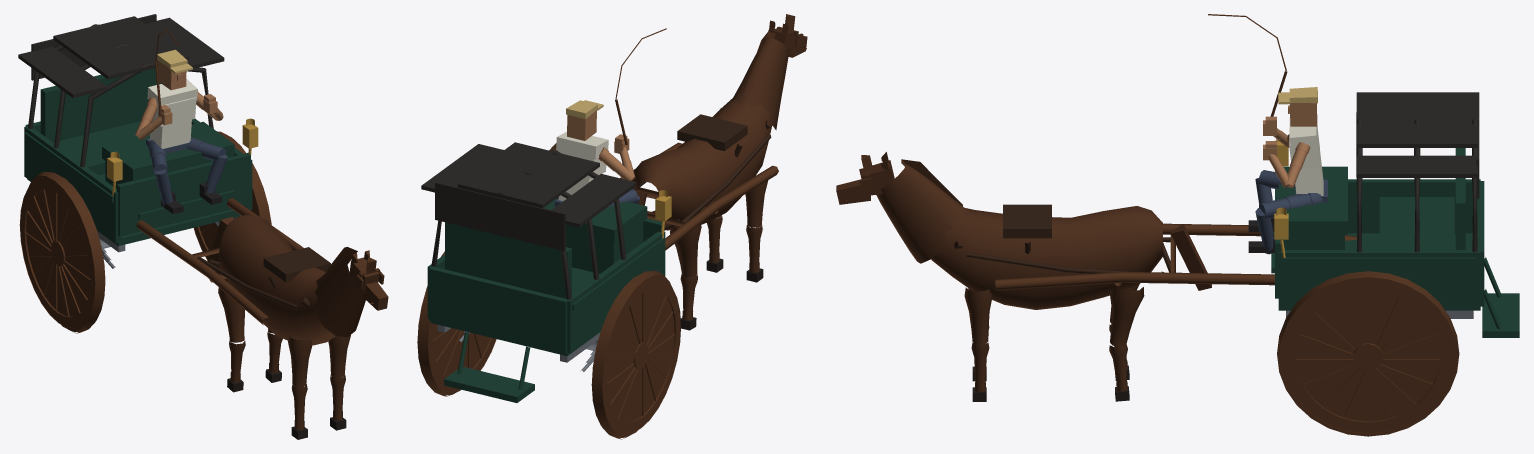
The model's file is kalesa.glb.
3 renders of one model, left to right at view 1: azimuth 30°, elevation 25°; view 2: azimuth 150°, elevation 25°; view 3: azimuth 270°, elevation 25°, orthographic. The views are drawn at different scales.
Visible parts, largest first — view 1: Cab, Spin (×2), Hood, Barrel, NeckMesh, Upper (×3), Shafts, Torso, Harness, LowerMesh (×4), HeadMesh, Head (+8 smaller); view 2: Cab, Hood, Spin (×2), Barrel, NeckMesh, Harness, Shafts, Upper (×2), LowerMesh (×3), Torso, HeadMesh, Head (+4 smaller); view 3: Spin, Cab, Barrel, Hood, NeckMesh, Shafts, Harness, Upper (×2), Torso, HeadMesh, TailMesh, Leg_L (+1 smaller).
Boxes of the visible parts, <box> form: Cab: <box>24,68,252,245</box>; Spin (×2): <box>19,131,271,333</box>; Hood: <box>18,14,224,167</box>; Barrel: <box>218,215,335,345</box>; NeckMesh: <box>313,247,365,337</box>; Upper (×3): <box>218,287,350,387</box>; Shafts: <box>136,198,303,325</box>; Torso: <box>147,78,197,148</box>; Harness: <box>196,247,330,309</box>; LowerMesh (×4): <box>229,330,345,430</box>; HeadMesh: <box>349,250,388,310</box>; Head: <box>158,61,186,90</box>; Cab: <box>427,198,665,402</box>; Hood: <box>421,142,636,299</box>; Spin (×2): <box>417,251,680,439</box>; Barrel: <box>631,97,772,230</box>; NeckMesh: <box>732,31,789,130</box>; Harness: <box>638,108,771,230</box>; Shafts: <box>620,142,778,250</box>; Upper (×2): <box>670,180,768,277</box>; LowerMesh (×3): <box>680,215,762,320</box>; Torso: <box>556,131,608,201</box>; HeadMesh: <box>768,14,807,57</box>; Head: <box>567,110,596,140</box>; Spin: <box>1277,271,1459,436</box>; Cab: <box>1271,148,1519,337</box>; Barrel: <box>931,206,1162,309</box>; Hood: <box>1356,92,1479,252</box>; NeckMesh: <box>876,159,969,263</box>; Shafts: <box>995,223,1356,290</box>; Harness: <box>954,204,1171,273</box>; Upper (×2): <box>964,285,1144,346</box>; Torso: <box>1289,118,1323,195</box>; HeadMesh: <box>836,152,894,204</box>; TailMesh: <box>1170,224,1211,290</box>; Leg_L: <box>1259,193,1322,217</box>.
Bounding box in the file's own units: 1.57 × 2.76 × 4.73.
